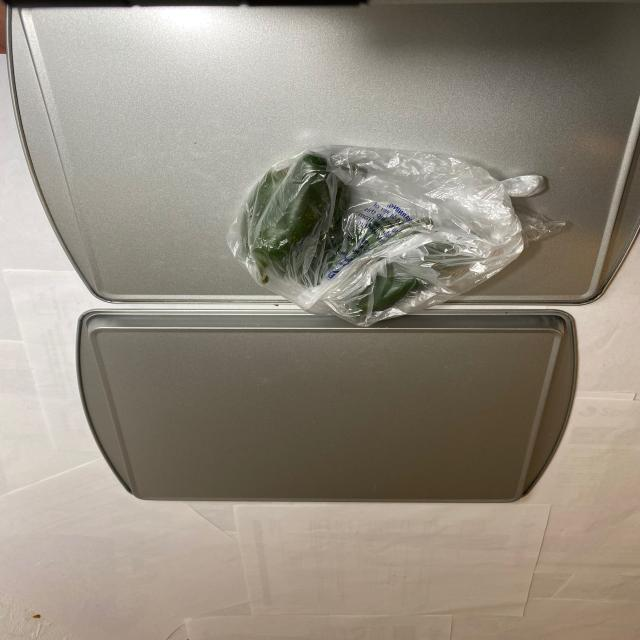chilli: (234, 150, 450, 320)
